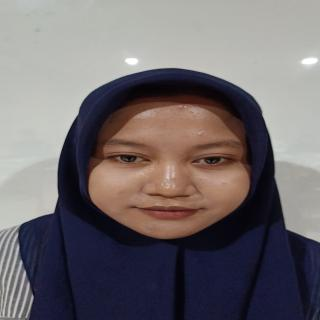Netral: (77, 93, 258, 239)
